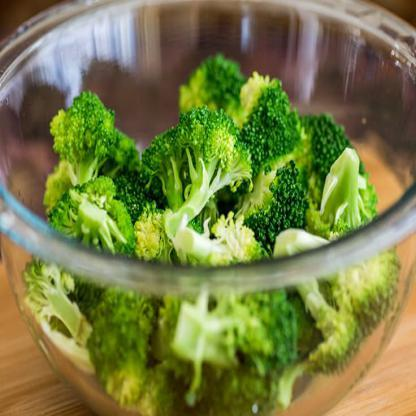broccoli: (15, 51, 402, 416)
